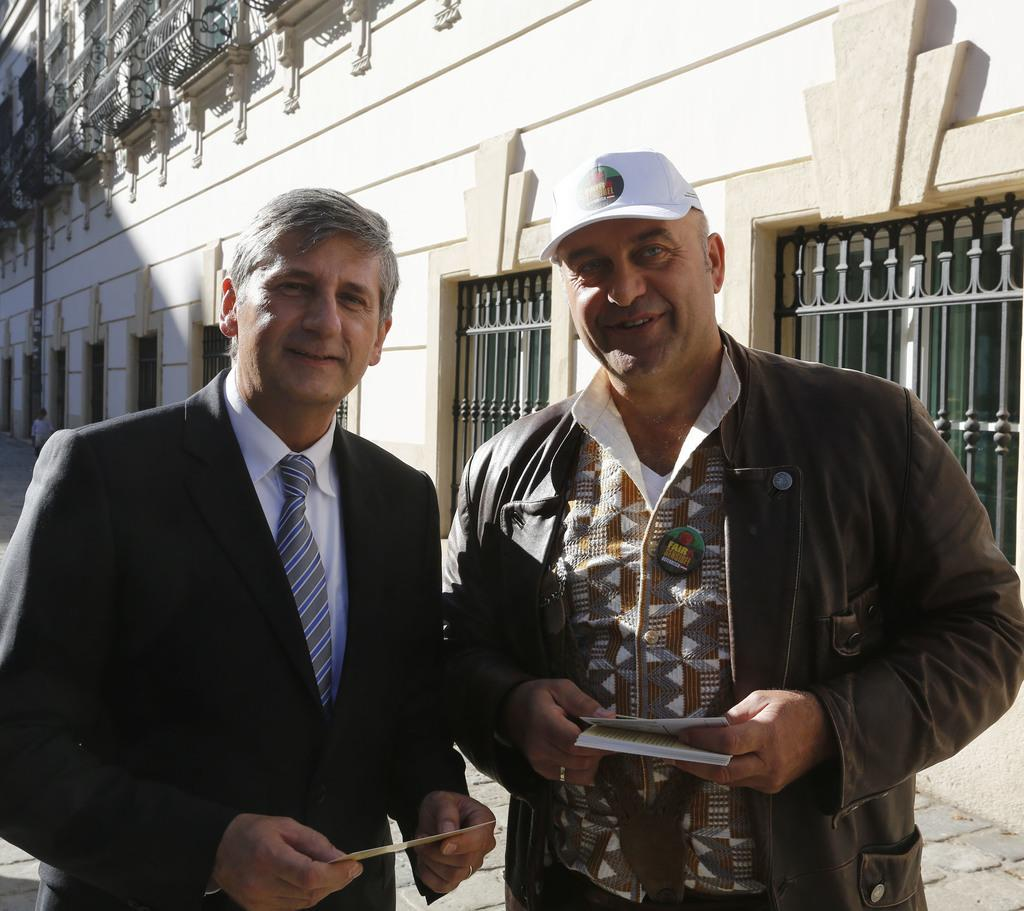Hat: (540, 150, 708, 263)
